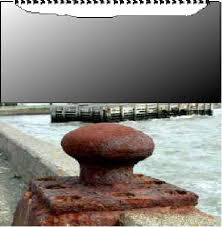rust: (15, 177, 200, 226), (54, 126, 162, 170), (79, 128, 137, 192)
